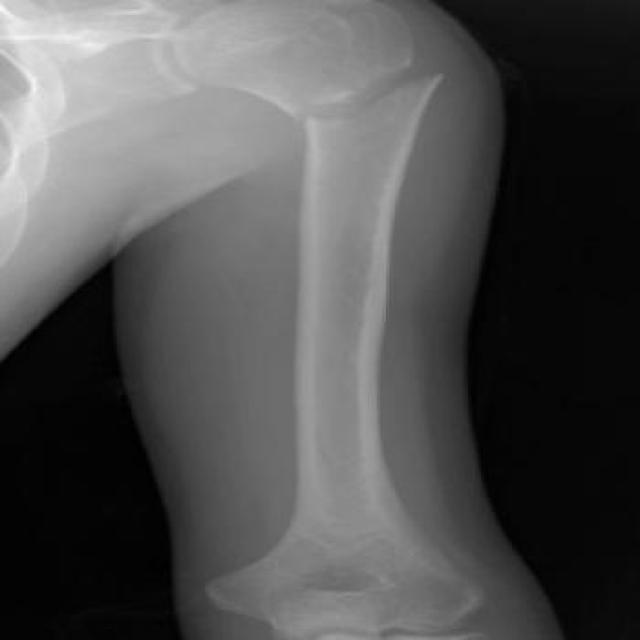Fracture: (291, 48, 472, 134)
